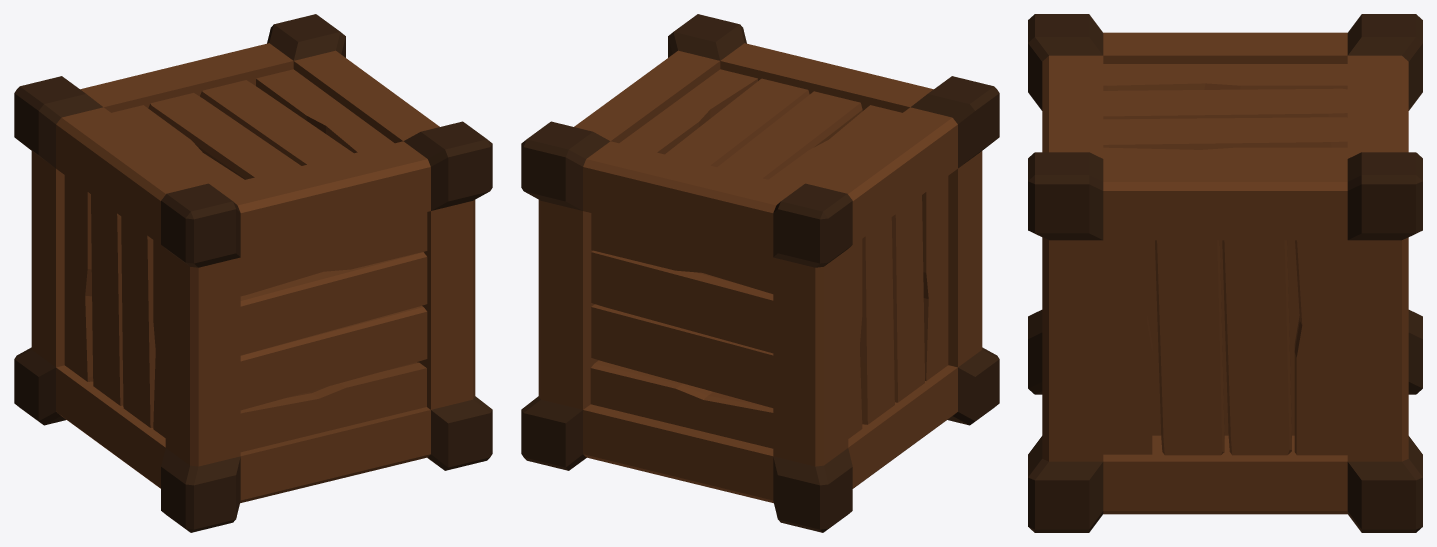
File: coloredbox.fbx
The picture shows the model from 3 angles, left to right: view 1: azimuth 30°, elevation 25°; view 2: azimuth 150°, elevation 25°; view 3: azimuth 270°, elevation 25°; orthographic projection. The views are drawn at different scales.
Visible parts, largest first — view 1: Plane.027; view 2: Plane.027; view 3: Plane.027.
Boxes of the visible parts, left/top/right/bottom form: Plane.027: left=14, top=14, right=492, bottom=532; Plane.027: left=521, top=14, right=999, bottom=532; Plane.027: left=1028, top=14, right=1422, bottom=532.
Size of the model in its own units: 323 by 323 by 323.
